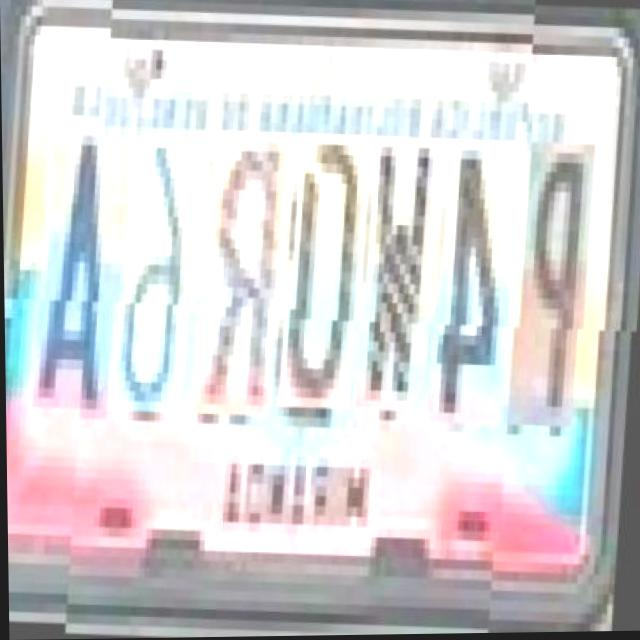0: (281, 137, 372, 415)
4: (430, 141, 521, 428)
6: (115, 142, 206, 420)
a: (35, 140, 130, 427)
p: (511, 134, 597, 420)
r: (196, 135, 291, 422)
w: (355, 140, 446, 417)
